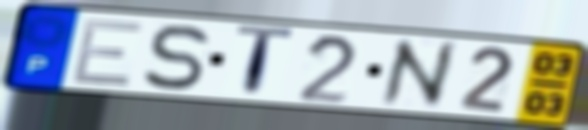2: (293, 33, 365, 105), (457, 45, 517, 115)
E: (68, 17, 148, 90)
N: (378, 37, 459, 109)
S: (139, 23, 213, 93)
T: (232, 23, 298, 103)
